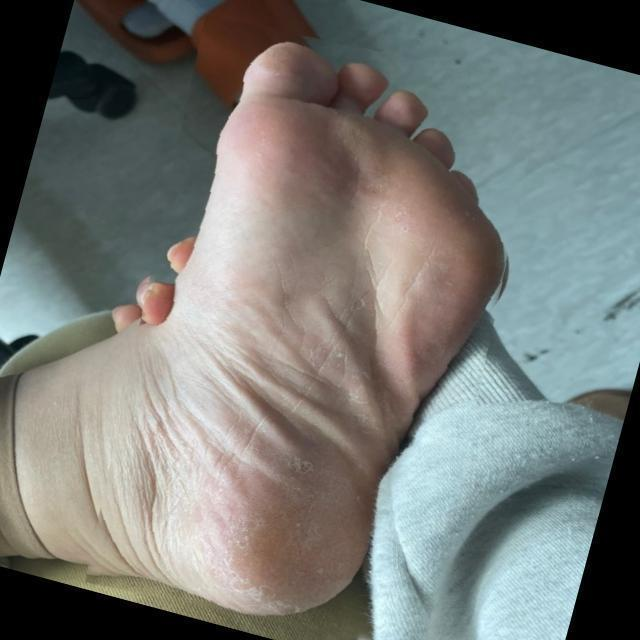No_Shoes: (88, 56, 548, 604)
